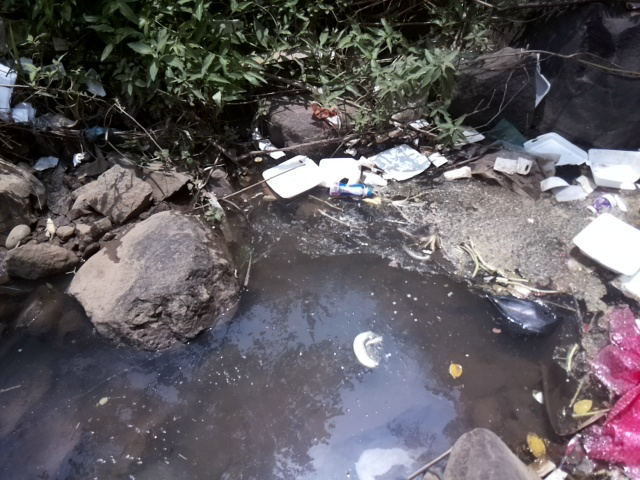Sampah_Botol_Plastik: (328, 183, 375, 200)
Sampah_Plastik: (574, 299, 640, 477), (483, 290, 562, 337)
Sampah_Styrofoam: (569, 214, 640, 287), (265, 151, 322, 199), (522, 129, 588, 170), (583, 143, 640, 189), (370, 140, 433, 180), (318, 152, 362, 189), (536, 174, 589, 201), (536, 61, 552, 111)
